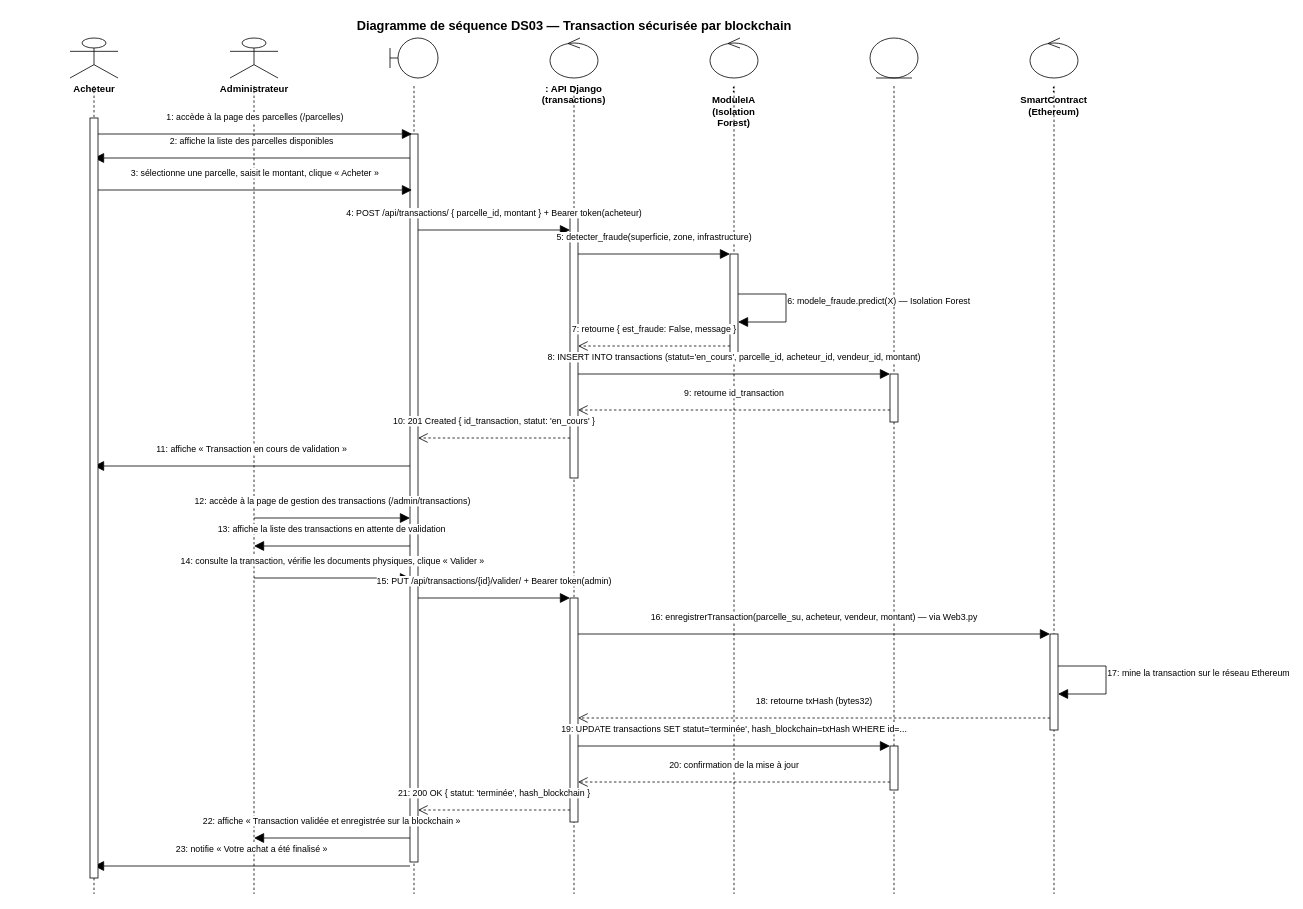
Image size: 1303x909. Some labels were removed from this diagram. The shapes that lost their labels are listed below. From the top down, each one's centre as x and y in pixels, then its label:
At (413,57): ": Interface Web (React)".
At (893,57): ": Base de données (transactions)".
